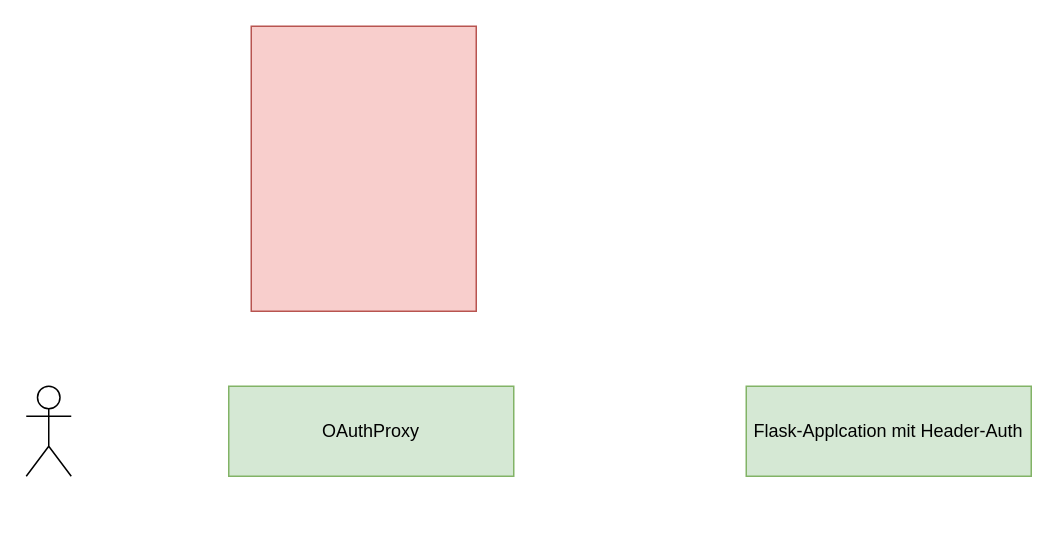
The diagram is 1058 pixels wide and 534 high, and some of its shapes have lost their labels. Here are the shapes that lost their labels. From the top down, the box of each, then its label:
(250, 25, 476, 311): Keycloak
(25, 385, 71, 476): Actor
